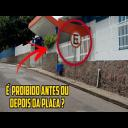NoEstacionar: (67, 26, 85, 50)
